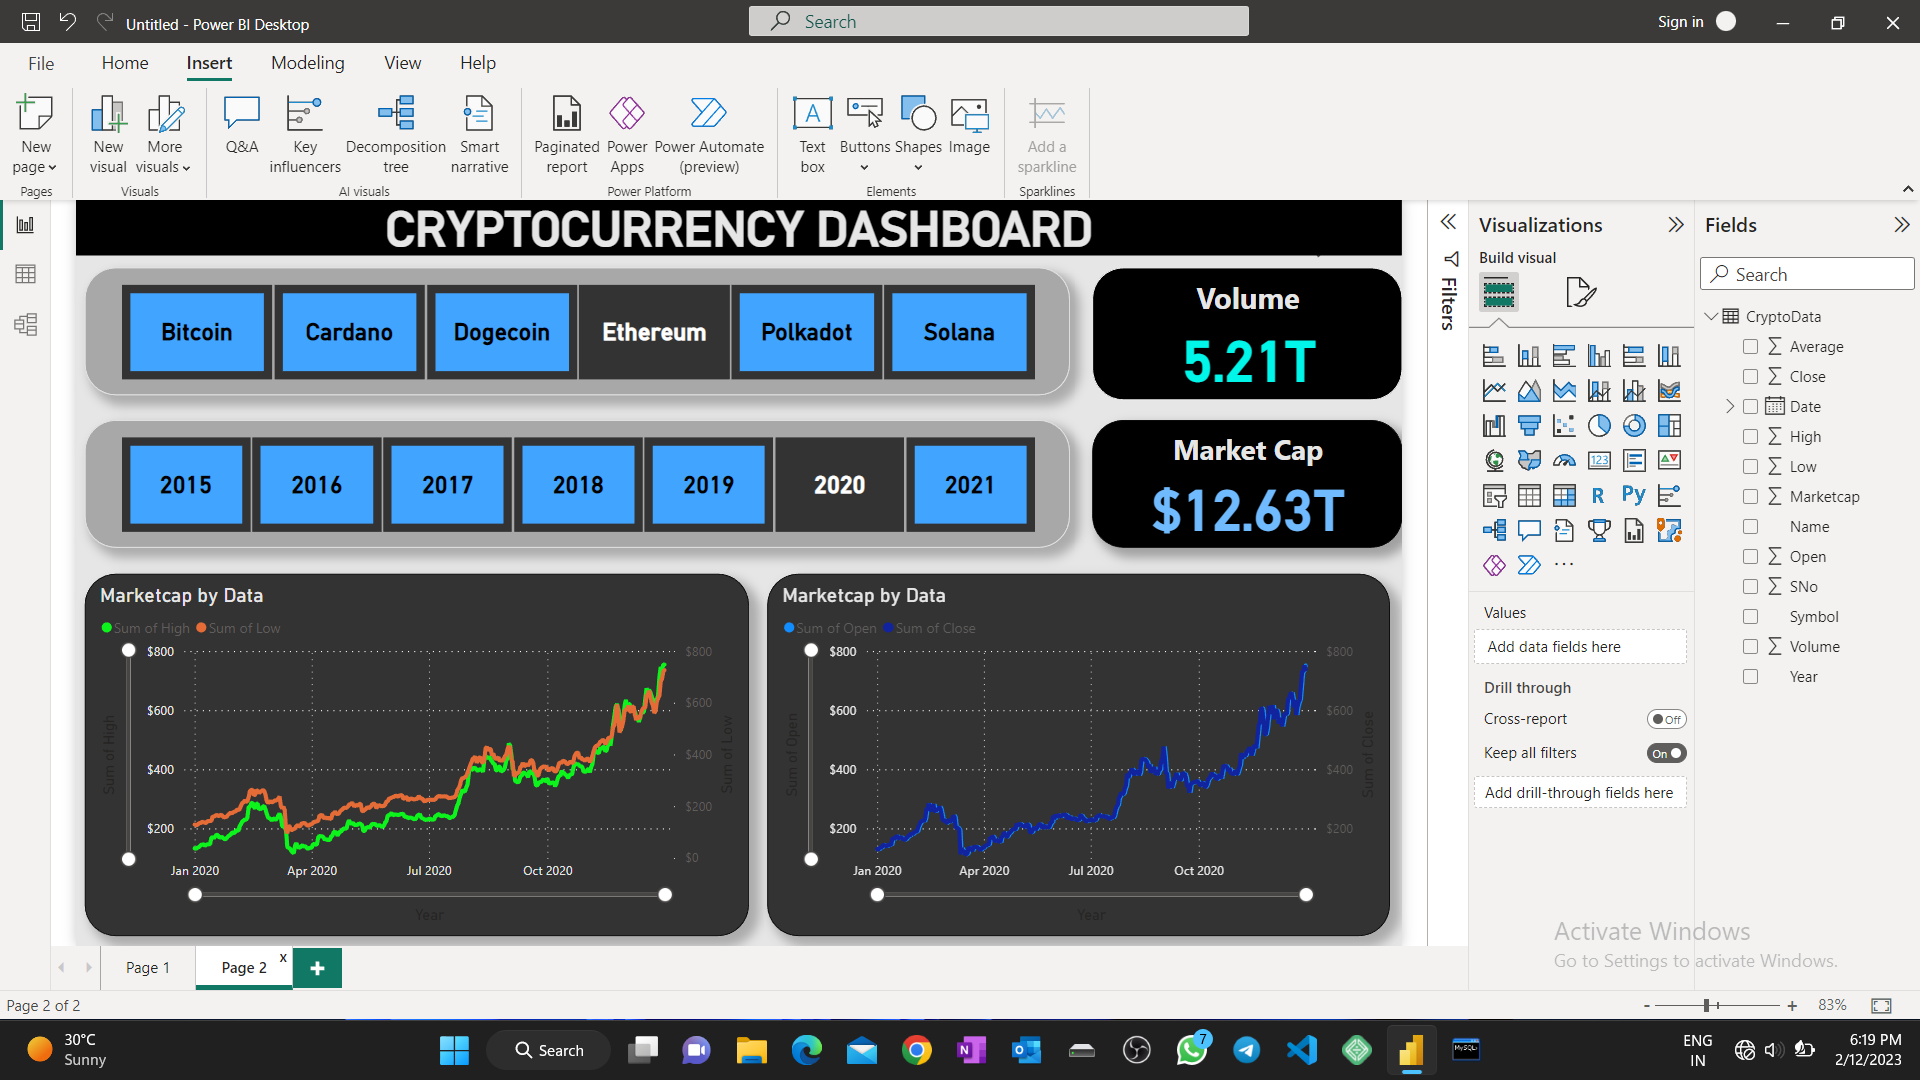

What the dashboard file says about the page in this screenshot:
{"tool":"powerbi","page":{"name":"Page 2","canvas":[1280,720],"ordinal":1},"visuals":[{"type":"slicer","fields":{"Values":["CryptoData.Name"]},"box":[8.4,65.1,950.4,123],"z":0},{"type":"actionButton","box":[0,0,100,40],"z":1000},{"type":"slicer","fields":{"Values":["CryptoData.Year"]},"box":[8.4,212.3,950.4,123],"z":2000},{"type":"lineChart","title":"Marketcap by Data","fields":{"Category":["CryptoData.Date.Variation.Date Hierarchy.Year","CryptoData.Date.Variation.Date Hierarchy.Quarter","CryptoData.Date.Variation.Date Hierarchy.Month","CryptoData.Date.Variation.Date Hierarchy.Day"],"Y":["Sum(CryptoData.High)"],"Y2":["Sum(CryptoData.Low)"]},"box":[8.4,360.6,640.4,349.7],"z":3000},{"type":"actionButton","box":[1180.1,20.6,100.2,39.8],"z":4000},{"type":"card","title":"Market Cap","fields":{"Values":["Sum(CryptoData.Marketcap)"]},"box":[980.5,212.3,299.1,123],"z":5000},{"type":"lineChart","title":"Marketcap by Data","fields":{"Category":["CryptoData.Date.Variation.Date Hierarchy.Year","CryptoData.Date.Variation.Date Hierarchy.Quarter","CryptoData.Date.Variation.Date Hierarchy.Month","CryptoData.Date.Variation.Date Hierarchy.Day"],"Y2":["Sum(CryptoData.Close)"],"Y":["Sum(CryptoData.Open)"]},"box":[666.9,360.6,600.6,349.7],"z":6000},{"type":"textbox","title":"CRYPTOCURRENCY DASHBOARD","box":[0,0,1279.6,57.9],"z":7000},{"type":"card","title":"Volume","fields":{"Values":["Sum(CryptoData.Volume)"]},"box":[980.5,65.1,299.1,127.8],"z":8000}]}

Visuals, with their boxes on the page's 1280x720 design canvas (x1, y1, x2, y2). These are canvas units, not pixel positions in the 1920x1080 screenshot, which may show the page scaled, cropped or inside an application window:
slicer - CryptoData.Name: {"left": 8, "top": 65, "right": 959, "bottom": 188}
actionButton: {"left": 0, "top": 0, "right": 100, "bottom": 40}
slicer - CryptoData.Year: {"left": 8, "top": 212, "right": 959, "bottom": 335}
"Marketcap by Data" lineChart: {"left": 8, "top": 361, "right": 649, "bottom": 710}
actionButton: {"left": 1180, "top": 21, "right": 1280, "bottom": 60}
"Market Cap" card: {"left": 980, "top": 212, "right": 1280, "bottom": 335}
"Marketcap by Data" lineChart: {"left": 667, "top": 361, "right": 1268, "bottom": 710}
"CRYPTOCURRENCY DASHBOARD" textbox: {"left": 0, "top": 0, "right": 1280, "bottom": 58}
"Volume" card: {"left": 980, "top": 65, "right": 1280, "bottom": 193}
